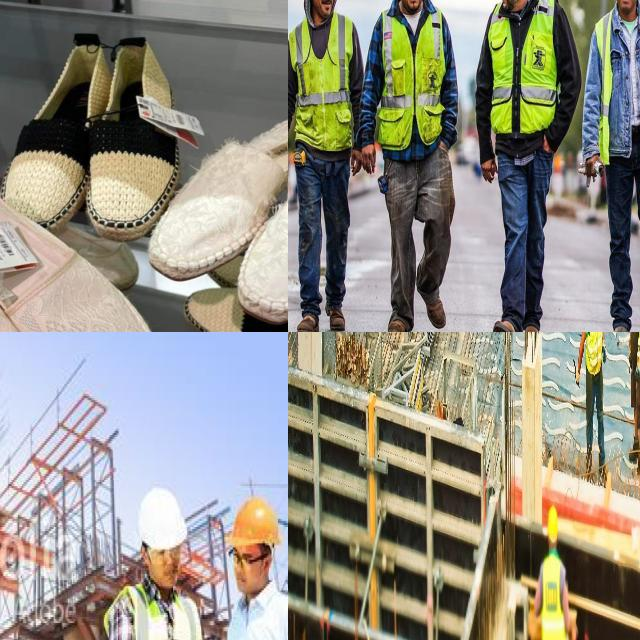Sandals: (125, 49, 288, 324), (0, 7, 188, 237), (0, 141, 190, 332)
face_nomask: (149, 546, 183, 594), (232, 544, 261, 590), (310, 0, 337, 19), (609, 0, 640, 15), (395, 0, 425, 10), (495, 0, 522, 9)
glasses: (226, 549, 253, 570)
hand_glove: (573, 358, 580, 391), (637, 347, 640, 380)
hand_noglove: (478, 153, 502, 188), (581, 153, 601, 185), (347, 143, 362, 185), (363, 142, 377, 183)
head_helmet: (139, 490, 188, 558), (228, 500, 282, 550), (546, 510, 562, 542)
person: (470, 0, 574, 332), (362, 0, 460, 332), (288, 0, 364, 332), (582, 0, 640, 332), (108, 474, 197, 640), (224, 488, 288, 640), (536, 493, 574, 640), (581, 332, 609, 465), (626, 332, 640, 471)
shoes: (414, 269, 450, 332), (488, 310, 526, 332), (294, 306, 323, 332), (323, 302, 348, 332), (384, 312, 411, 332), (604, 319, 633, 332), (522, 318, 544, 332)
vest: (488, 0, 559, 137), (289, 10, 354, 154), (380, 0, 443, 144), (595, 3, 640, 163), (121, 590, 206, 640), (541, 556, 567, 638), (585, 332, 604, 370), (630, 332, 640, 370)
